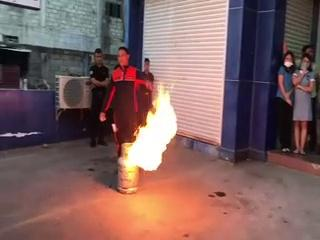Fire: (129, 82, 181, 172)
